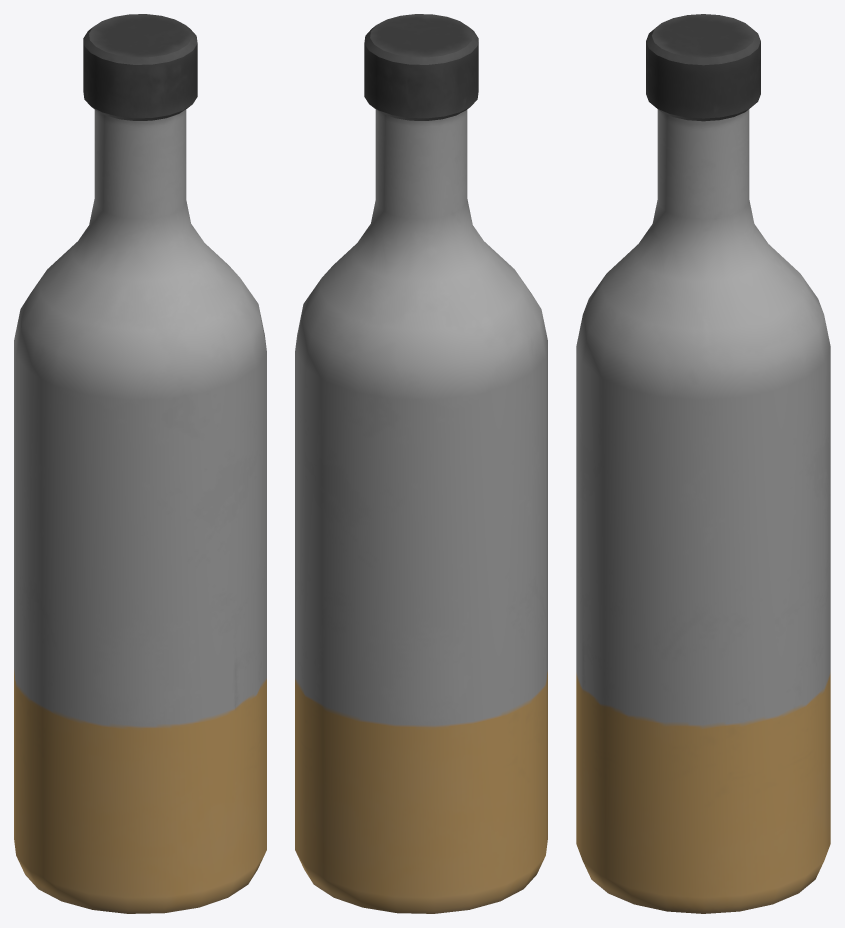
File: SM_Bottle4.fbx
The picture shows the model from 3 angles, left to right: view 1: azimuth 30°, elevation 25°; view 2: azimuth 150°, elevation 25°; view 3: azimuth 270°, elevation 25°; orthographic projection.
Parts seen in each view (by area): view 1: SM_Bottle4_LOD0; view 2: SM_Bottle4_LOD0; view 3: SM_Bottle4_LOD0.
Part boxes in pixels (left/top/right/bottom): SM_Bottle4_LOD0: left=14, top=14, right=266, bottom=913; SM_Bottle4_LOD0: left=295, top=14, right=547, bottom=913; SM_Bottle4_LOD0: left=576, top=14, right=830, bottom=913.
Size of the model in its own units: 9 by 9 by 32.69.
1 material, 1 textured.
